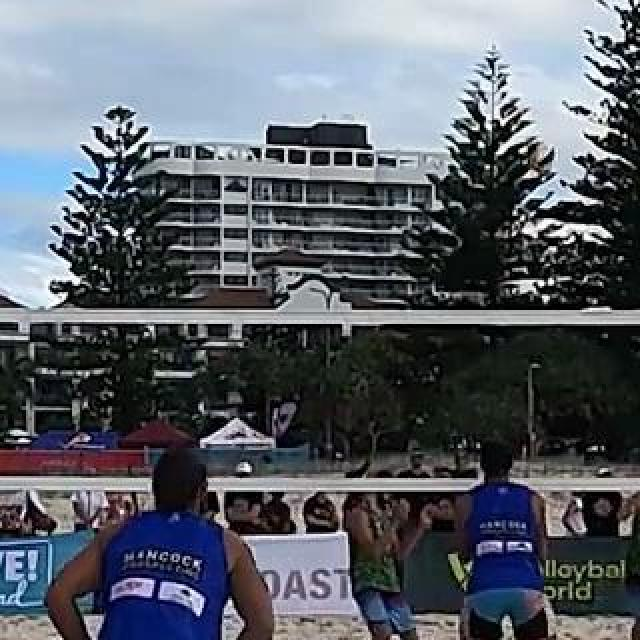volleyball: (530, 140, 556, 170)
